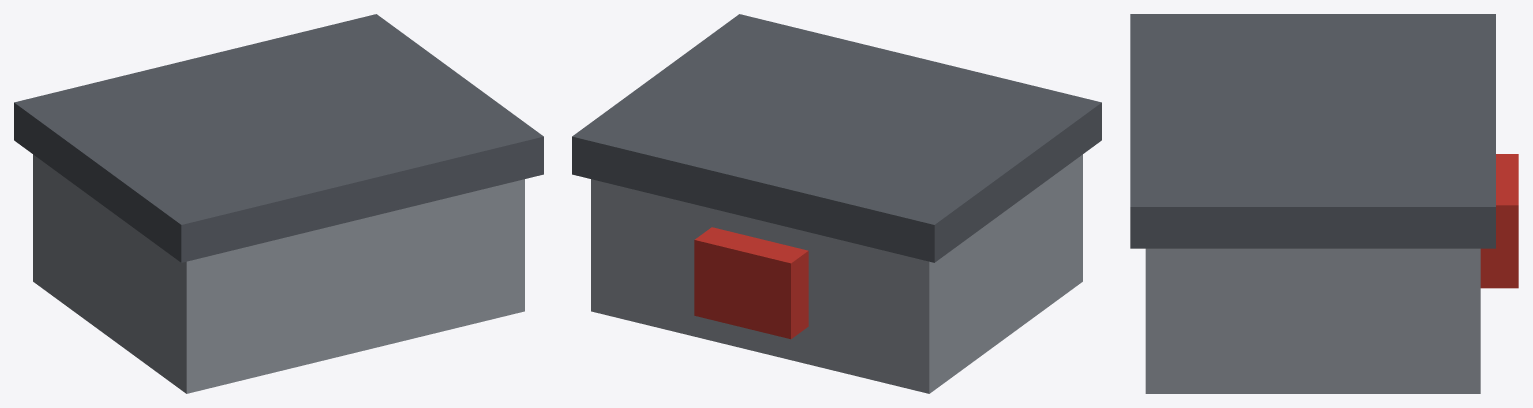
Rendered from mypack_case.obj.
3 views of the same model, side by side, from view 1: azimuth 30°, elevation 25°; view 2: azimuth 150°, elevation 25°; view 3: azimuth 270°, elevation 25° (orthographic). The views are drawn at different scales.
Size of the model in its own units: 0.6 by 0.28 by 0.51.
